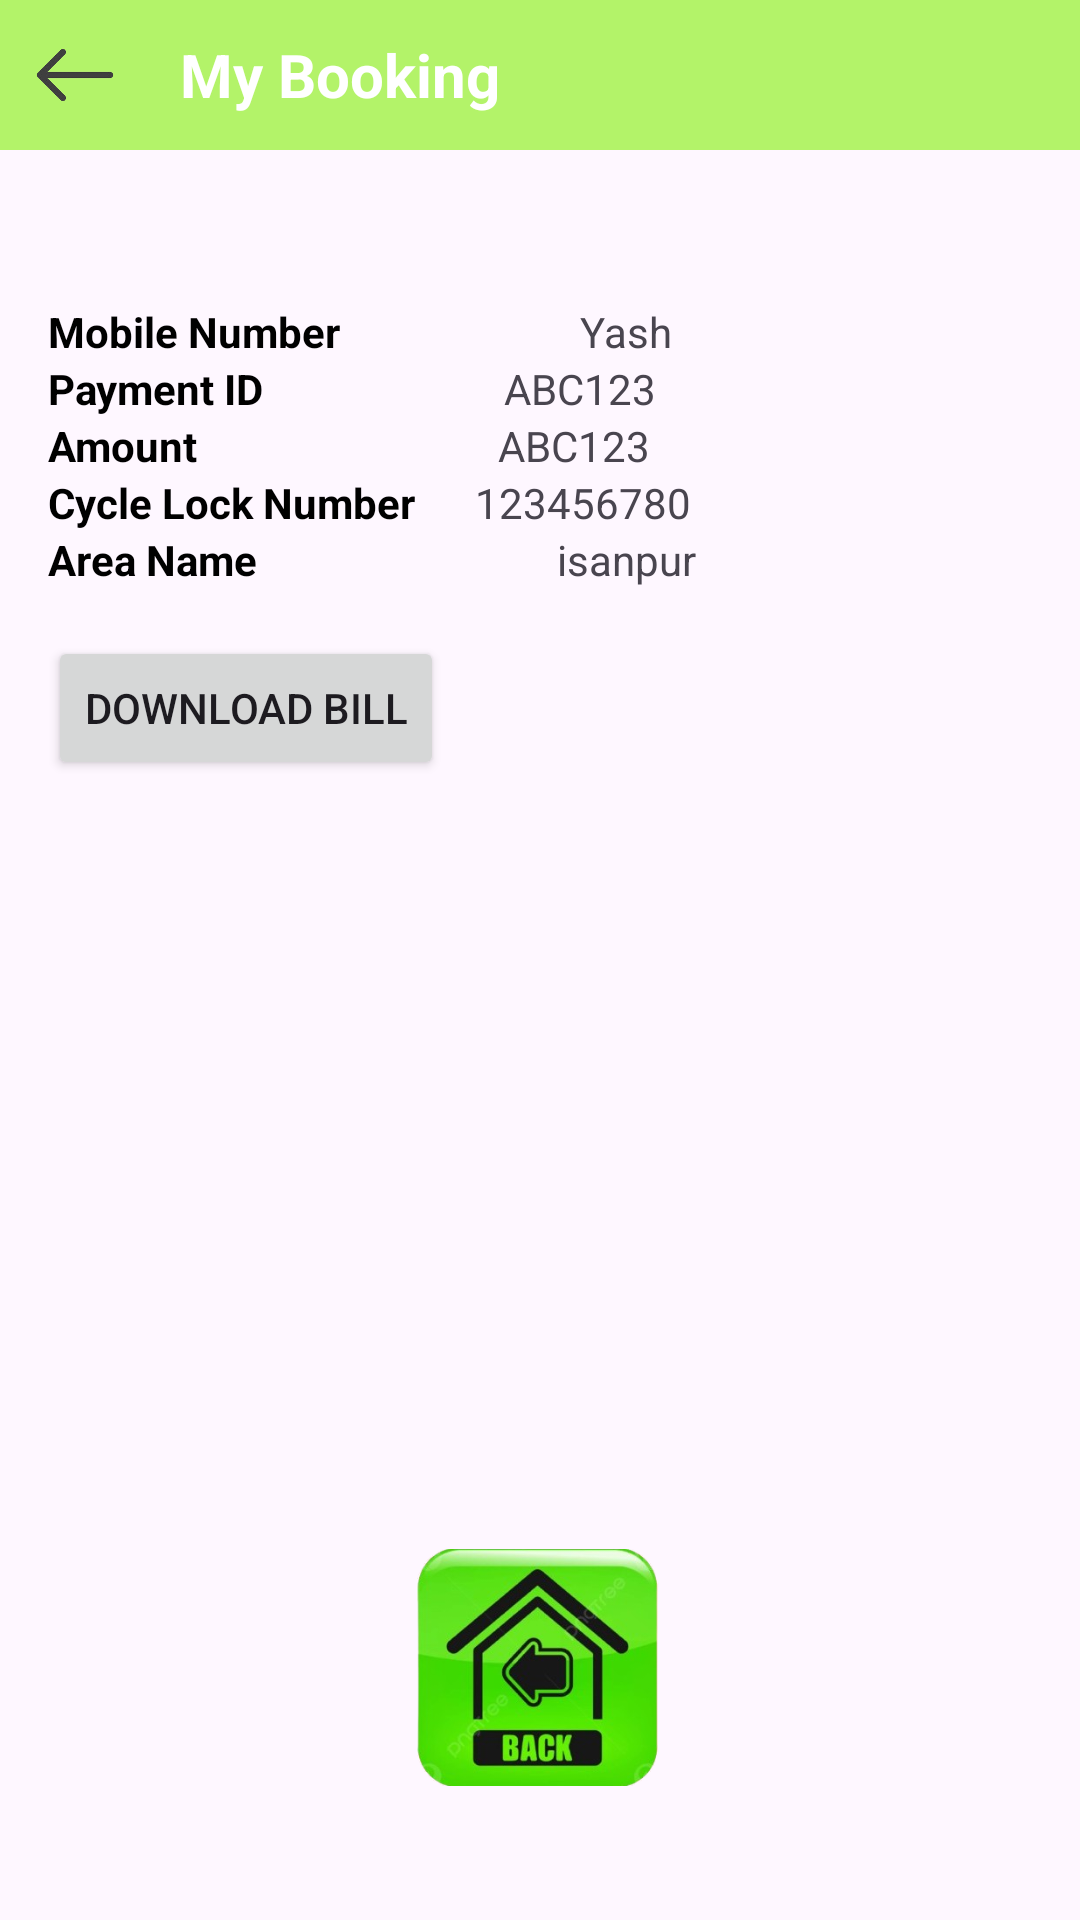

Icon click points for this 1080px x 1920px phone screenshot, format point (x, y):
Back Button: point (75, 75)
